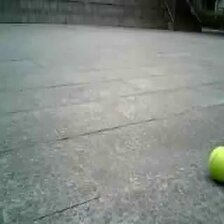tennis: (208, 148, 224, 179)
